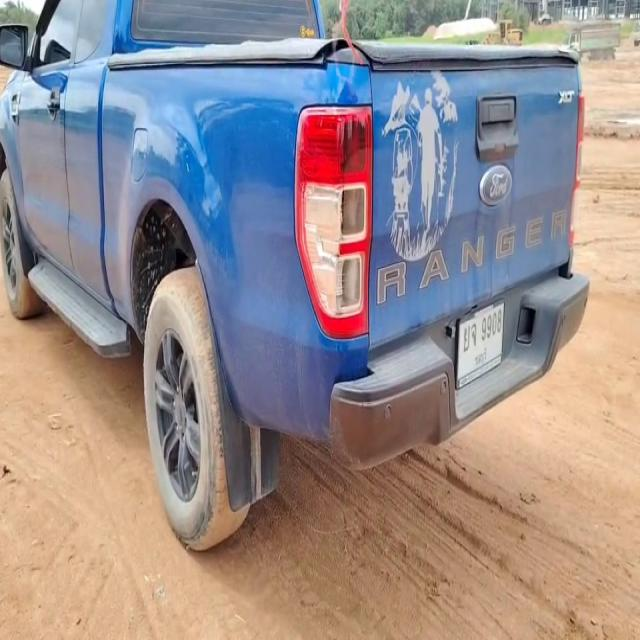Digit: (481, 308, 503, 341)
Licenseplate: (456, 298, 505, 391)
Provincename: (472, 343, 490, 367)
Thaichar: (462, 319, 478, 351)
